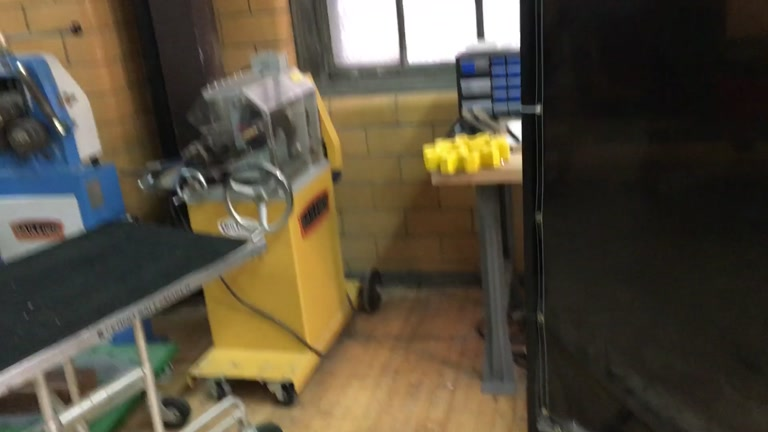gear: (422, 133, 511, 175)
